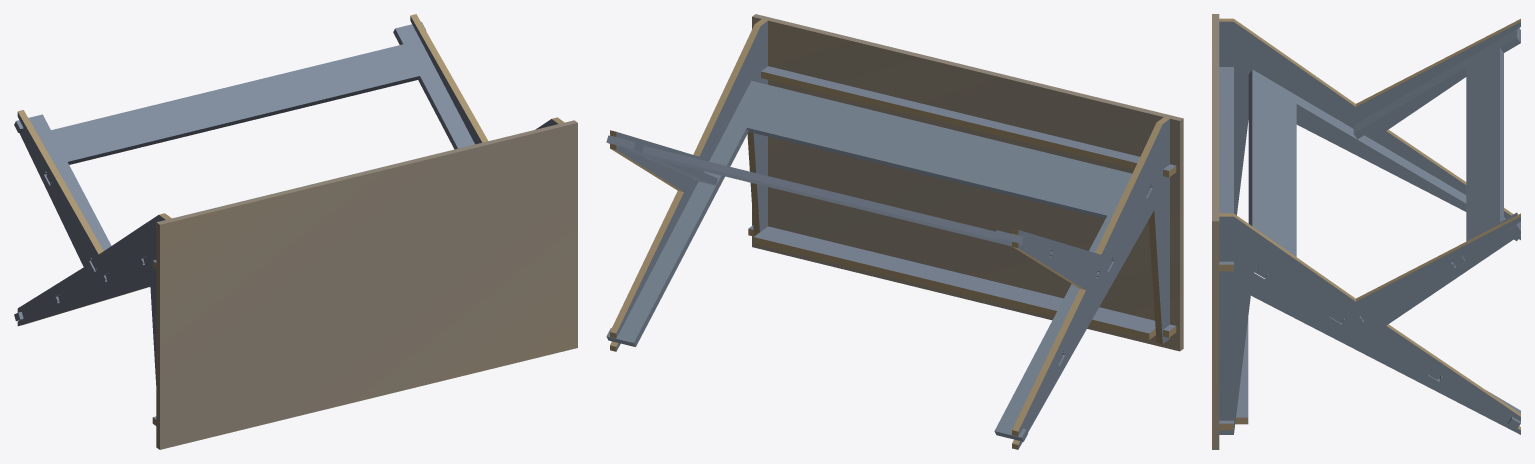
Rendered from NODO_ESCRITORIO_ESCULTORICO_CUARZO_FINAL_SIN_ENCASTRES.glb.
3 renders of one model, left to right at view 1: azimuth 30°, elevation 25°; view 2: azimuth 150°, elevation 25°; view 3: azimuth 270°, elevation 25°, orthographic. The views are drawn at different scales.
Visible parts, largest first — view 1: G_Tapa_Superior_LIMPIA, B_Escuadra_Trasera_canto, D_Lateral_Izq_cuerpo, D_Lateral_Izq_canto_perimetro_2, C_Lateral_Der_canto_perimetro_2, C_Lateral_Der_cuerpo; view 2: G_Tapa_Superior_LIMPIA, A_Escuadra_Delantera_canto, D_Lateral_Izq_cuerpo, C_Lateral_Der_cuerpo, F_Traba_Delantera_cuerpo, B_Escuadra_Trasera_canto, D_Lateral_Izq_canto_perimetro_2, C_Lateral_Der_canto_perimetro_2, E_Traba_Trasera_cuerpo, E_Traba_Trasera_canto, F_Traba_Delantera_canto; view 3: C_Lateral_Der_cuerpo, D_Lateral_Izq_cuerpo, A_Escuadra_Delantera_canto, B_Escuadra_Trasera_canto, G_Tapa_Superior_LIMPIA, E_Traba_Trasera_cuerpo, C_Lateral_Der_canto_perimetro_2, D_Lateral_Izq_canto_perimetro_2, F_Traba_Delantera_cuerpo.
Boxes of the visible parts, x1,y1,x2,y2 form: G_Tapa_Superior_LIMPIA: (156, 120, 577, 449); B_Escuadra_Trasera_canto: (14, 22, 474, 269); D_Lateral_Izq_cuerpo: (17, 112, 165, 384); D_Lateral_Izq_canto_perimetro_2: (17, 110, 171, 325); C_Lateral_Der_canto_perimetro_2: (410, 14, 564, 142); C_Lateral_Der_cuerpo: (410, 16, 557, 144); G_Tapa_Superior_LIMPIA: (752, 14, 1183, 351); A_Escuadra_Delantera_canto: (606, 80, 1150, 441); D_Lateral_Izq_cuerpo: (1018, 119, 1169, 449); C_Lateral_Der_cuerpo: (616, 21, 767, 351); F_Traba_Delantera_cuerpo: (749, 225, 1175, 333); B_Escuadra_Trasera_canto: (606, 135, 1097, 277); D_Lateral_Izq_canto_perimetro_2: (1012, 117, 1169, 449); C_Lateral_Der_canto_perimetro_2: (610, 19, 767, 351); E_Traba_Trasera_cuerpo: (761, 66, 1175, 170); E_Traba_Trasera_canto: (761, 71, 1176, 177); F_Traba_Delantera_canto: (748, 228, 1176, 339); C_Lateral_Der_cuerpo: (1219, 216, 1520, 434); D_Lateral_Izq_cuerpo: (1219, 21, 1520, 239); A_Escuadra_Delantera_canto: (1248, 69, 1520, 428); B_Escuadra_Trasera_canto: (1353, 28, 1520, 320); G_Tapa_Superior_LIMPIA: (1212, 14, 1219, 449); E_Traba_Trasera_cuerpo: (1219, 67, 1233, 264); C_Lateral_Der_canto_perimetro_2: (1219, 213, 1520, 429); D_Lateral_Izq_canto_perimetro_2: (1219, 18, 1520, 215); F_Traba_Delantera_cuerpo: (1219, 318, 1248, 423).
Size of what is drawn, in the model's own units: 1.22 by 0.628 by 0.7681.
